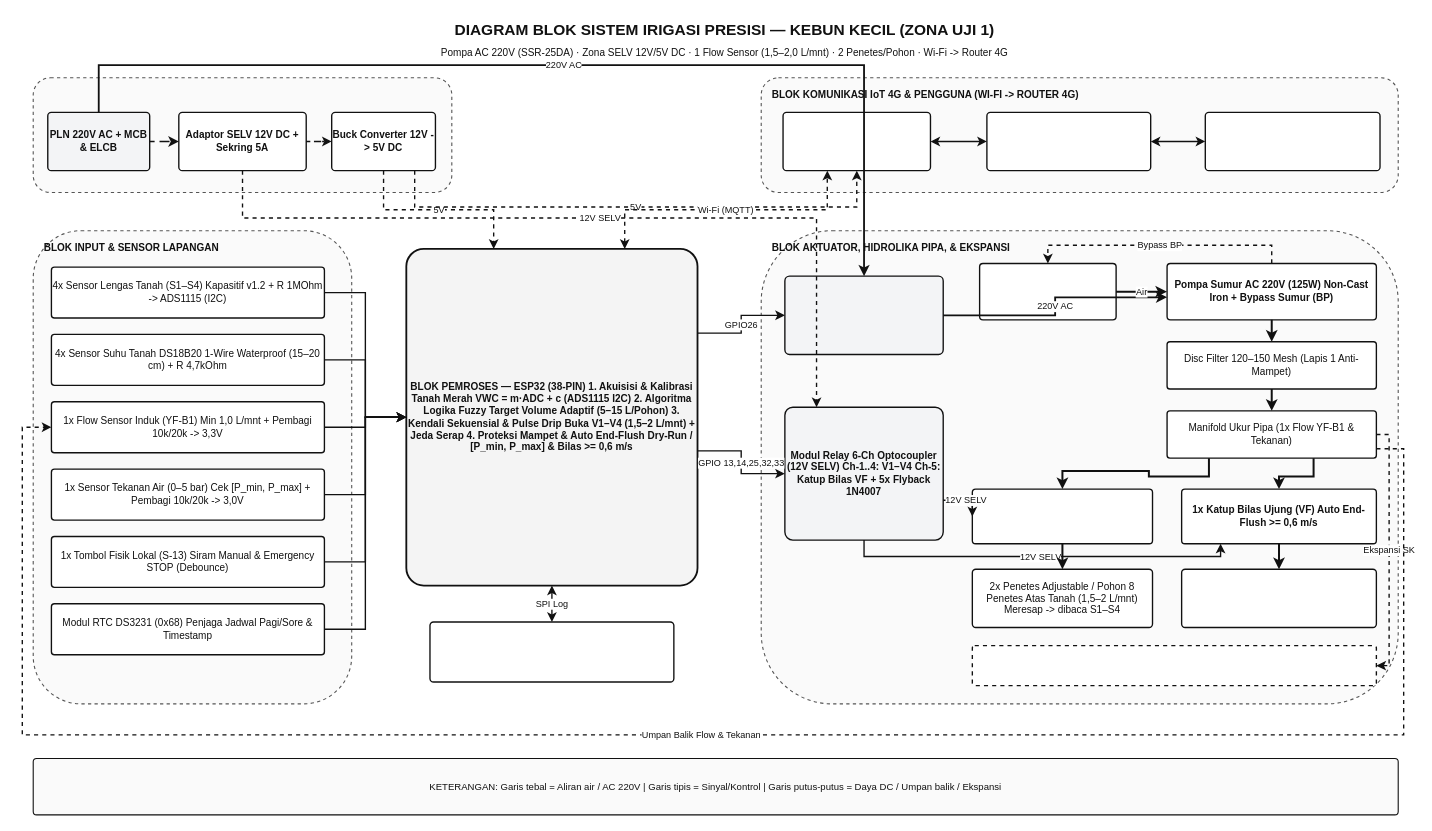
This 1432x831 diagram has some shape labels left out. Here are the shapes that lost their labels. From the top down, the box of each, then its label:
(32, 77, 452, 193): BLOK CATU DAYA (POMPA AC + SELV 12V / 5V DC)
(782, 111, 931, 171): Router / MiFi 4G (Wi-Fi Panel & SIM 4G)
(986, 111, 1151, 171): Broker MQTT & Database Server
(1204, 111, 1380, 171): Dashboard / HP Mitra (Monitor, STOP, Tuning)
(979, 262, 1116, 320): Sumur Bor Baru 2 Jalur (SK-A Alkon, SK-B+CV Kita)
(784, 275, 943, 355): SSR-25DA Zero-Crossing Isolasi Optik Pompa AC 220V (Terpisah dari Relay Katup)
(971, 488, 1153, 544): 4x Katup Cabang (V1–V4) 1 Pohon = 1 Katup 12V SELV
(1181, 568, 1377, 628): Saluran Pembuangan Buang Endapan Lumpur Pipa
(429, 621, 674, 682): Penyimpanan Lokal MicroSD Buffer Offline Store-and-Forward (SPI)
(971, 645, 1377, 686): Port Stop Kran Ekspansi (SK) + Slot I2C PCF8574 (Siap Zona 2..N -> 72–73 Pohon)
